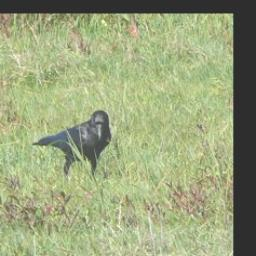Crow: (29, 110, 111, 180)
